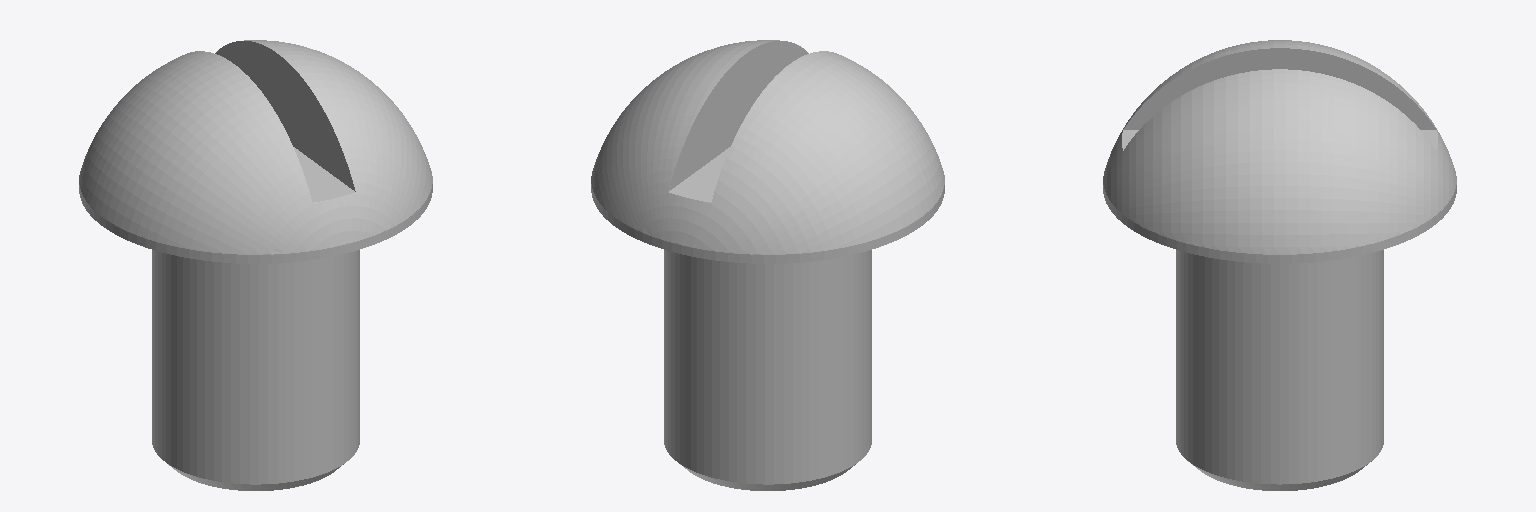
The model's file is Винт A.M5-6gx7 ГОСТ 17473-80.obj.
3 renders of one model, left to right at view 1: azimuth 30°, elevation 25°; view 2: azimuth 150°, elevation 25°; view 3: azimuth 270°, elevation 25°, orthographic.
Parts seen in each view (by area): view 1: Solid1; view 2: Solid1; view 3: Solid1.
Boxes of the visible parts, x1=… form: Solid1: x1=79, y1=40, x2=432, y2=490; Solid1: x1=591, y1=40, x2=944, y2=490; Solid1: x1=1103, y1=40, x2=1456, y2=490.
Size of the model in its own units: 8.5 by 10.46 by 8.5.